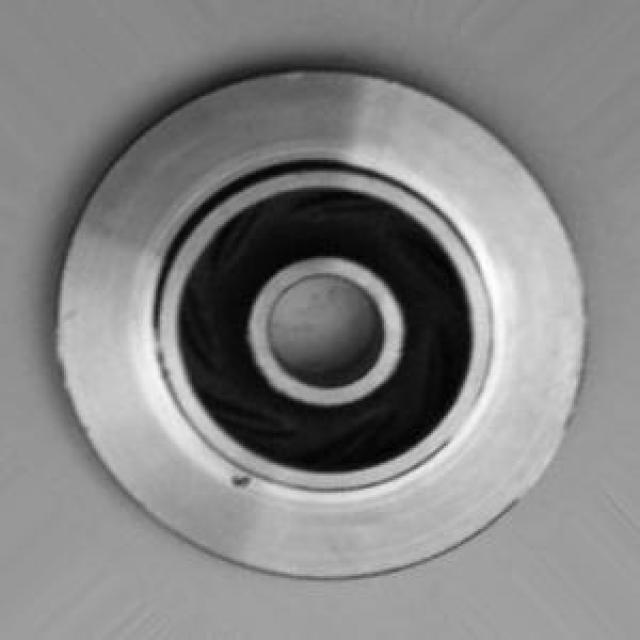Defect: (228, 467, 260, 503)
